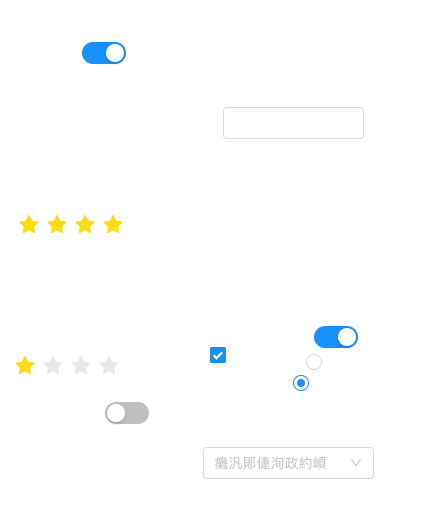Checkbox: (210, 344, 226, 365)
Input: (223, 107, 364, 139)
Radio: (293, 372, 309, 392), (306, 351, 322, 371)
Rate: (15, 349, 135, 381), (19, 208, 139, 240)
Select: (203, 447, 374, 479)
Switch: (314, 325, 358, 349), (82, 41, 126, 65), (105, 401, 149, 425)
